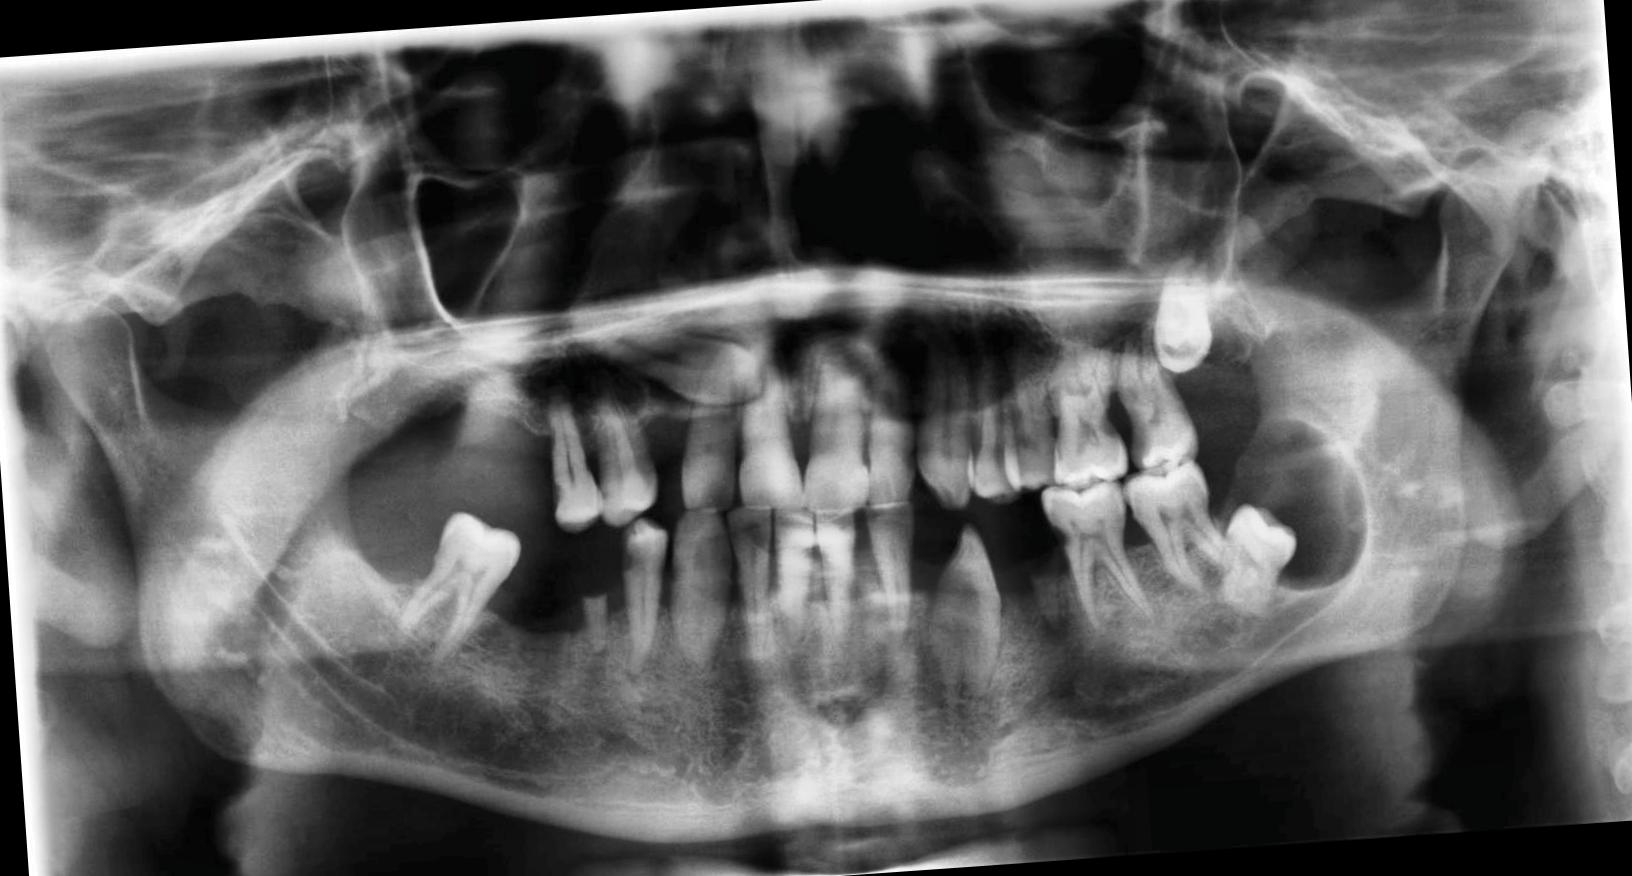dentigeroz: (1208, 411, 1374, 596)
